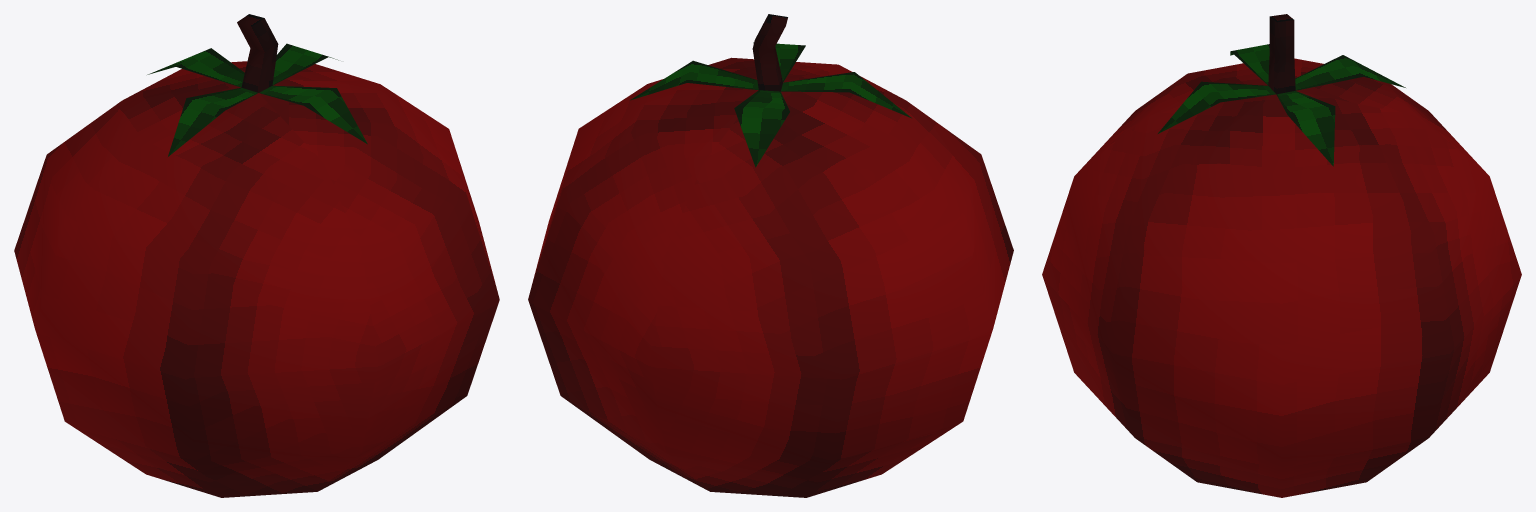
Rendered from Tomato.glb.
3 views of the same model, side by side, from view 1: azimuth 30°, elevation 25°; view 2: azimuth 150°, elevation 25°; view 3: azimuth 270°, elevation 25° (orthographic).
Parts seen in each view (by area): view 1: Tomato; view 2: Tomato; view 3: Tomato.
Boxes of the visible parts, box(x1,y1,x2,y2) form: Tomato: box(14, 14, 499, 497); Tomato: box(528, 14, 1013, 497); Tomato: box(1042, 14, 1521, 497).
Bounding box in the file's own units: 0.1484 × 0.1459 × 0.1407.
1 material, 1 textured.
